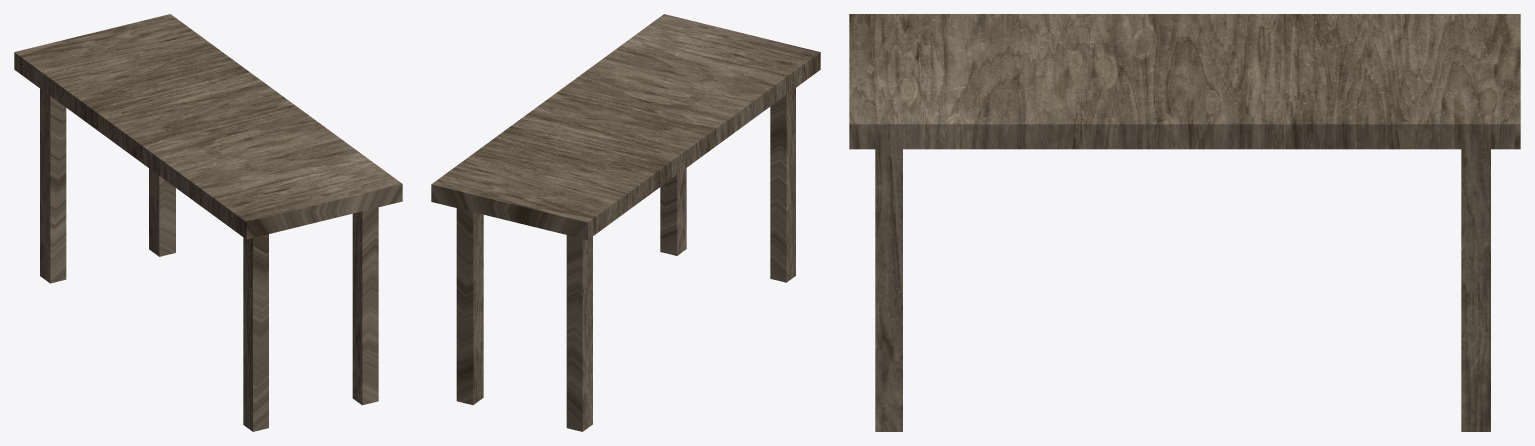
The model's file is Woodtable_0.2.fbx.
3 views of the same model, side by side, from view 1: azimuth 30°, elevation 25°; view 2: azimuth 150°, elevation 25°; view 3: azimuth 270°, elevation 25° (orthographic). The views are drawn at different scales.
Parts seen in each view (by area): view 1: WOOD TABLE; view 2: WOOD TABLE; view 3: WOOD TABLE.
Boxes of the visible parts, box(x1,y1,x2,y2) form: WOOD TABLE: box(14, 14, 402, 431); WOOD TABLE: box(431, 14, 820, 431); WOOD TABLE: box(849, 14, 1520, 431).
Size of the model in its own units: 76.41 by 197 by 103.
